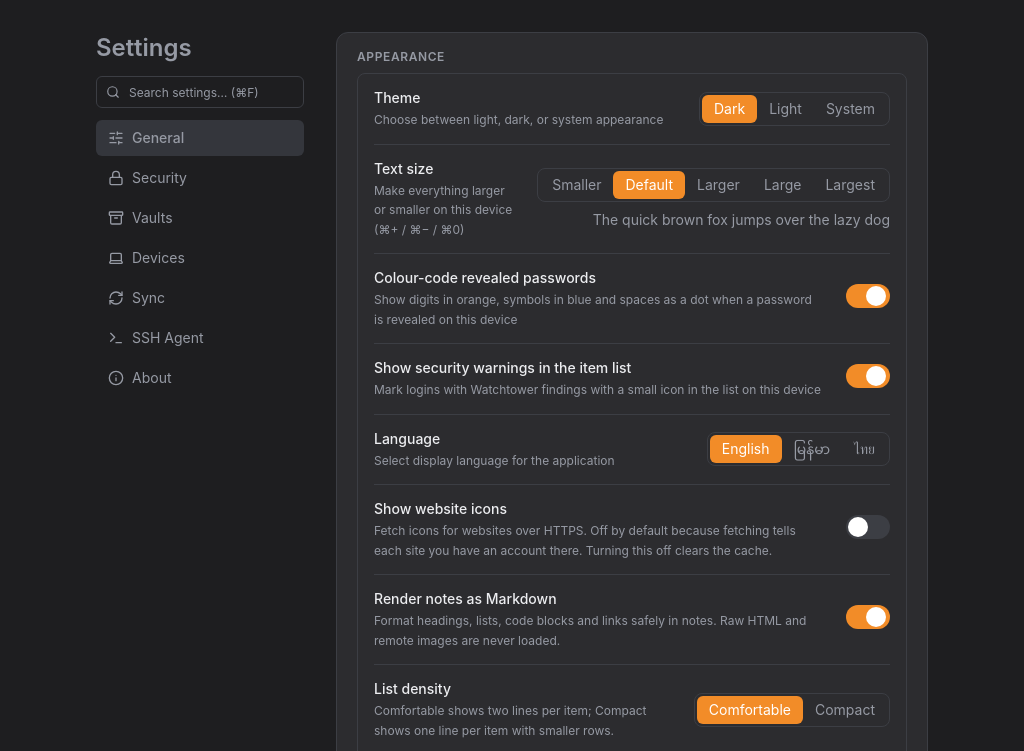
settings › switching language re-renders UI in Thai
Step 1. Click the radio button labelled "ไทย" → (864, 449), box left=842, top=435, right=887, bottom=463
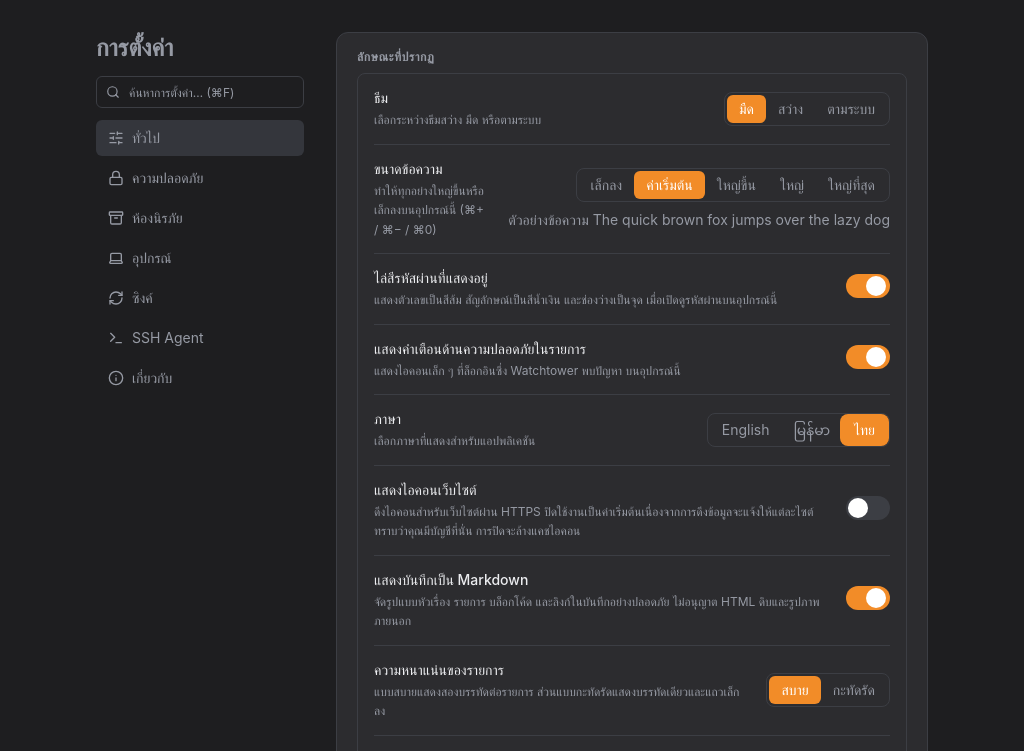
Expected: the heading "การตั้งค่า" is shown, left=96, top=33, right=173, bottom=62
